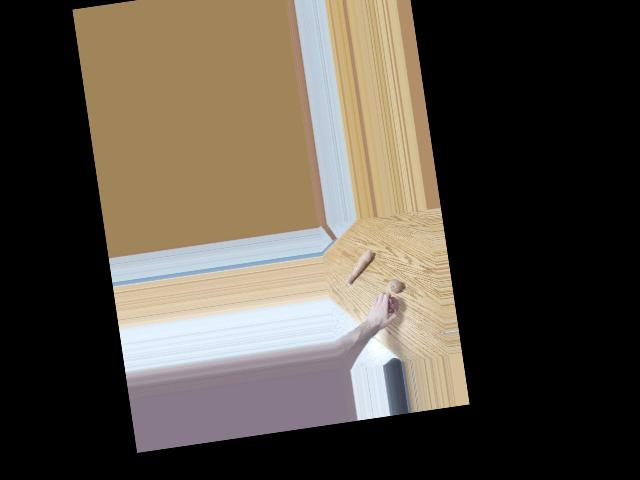onion: (384, 296, 398, 313)
